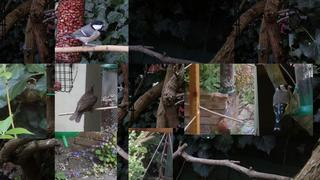goldfinch: (272, 84, 293, 131)
great tit: (58, 20, 108, 51)
starling: (69, 84, 98, 123)
